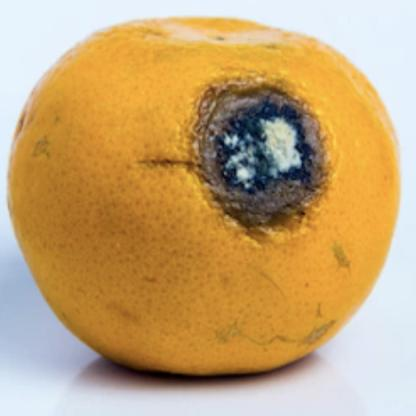rotten: (15, 14, 405, 379)
